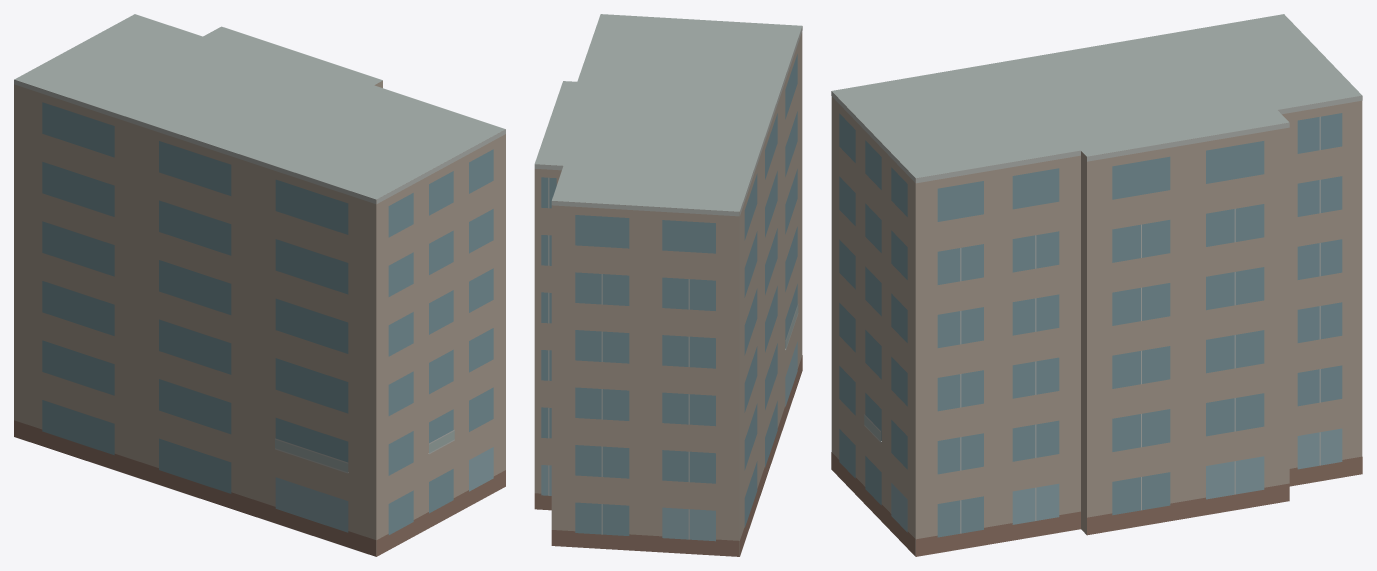
The model's file is survey-upis-32999479.glb.
3 views of the same model, side by side, from view 1: azimuth 30°, elevation 25°; view 2: azimuth 150°, elevation 25°; view 3: azimuth 270°, elevation 25° (orthographic). The views are drawn at different scales.
Visible parts, largest first — view 1: survey-upis-32999479.tmp; view 2: survey-upis-32999479.tmp; view 3: survey-upis-32999479.tmp.
Part boxes in pixels (left/top/right/bottom): survey-upis-32999479.tmp: left=14, top=14, right=505, bottom=556; survey-upis-32999479.tmp: left=534, top=14, right=802, bottom=556; survey-upis-32999479.tmp: left=831, top=14, right=1362, bottom=556.
Size of the model in its own units: 17.05 by 18.3 by 23.27.
